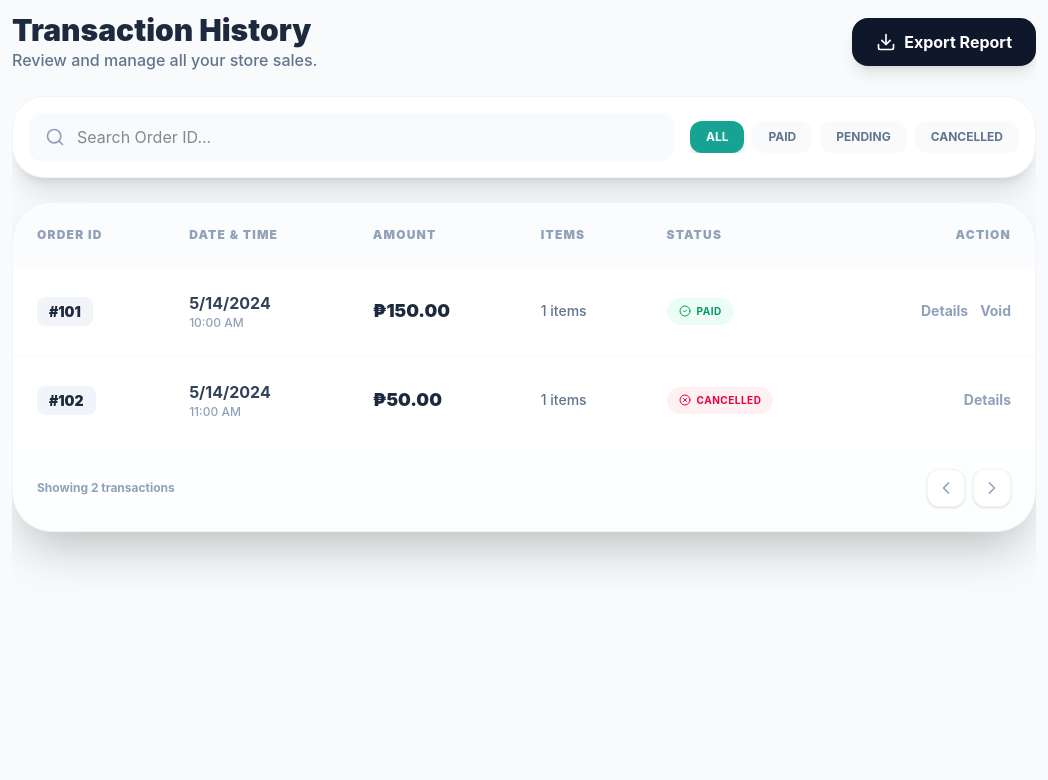
Transactions Component › filters by status
Expected: the text "#102" is shown, [37,386,96,415]
Click PAID filter
Step 1. Click the button "PAID" → (782, 137), box [752,121,812,153]
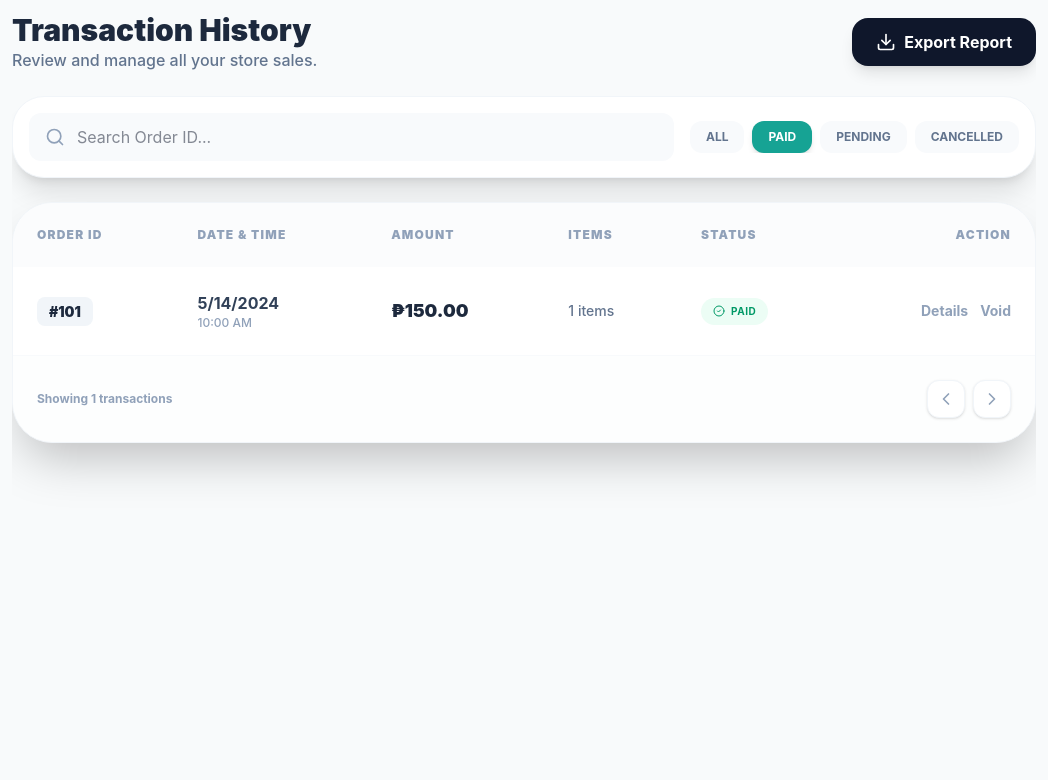
Expected: the text "#101" is shown, [37,297,93,326]
Result: the text "#102" is gone
